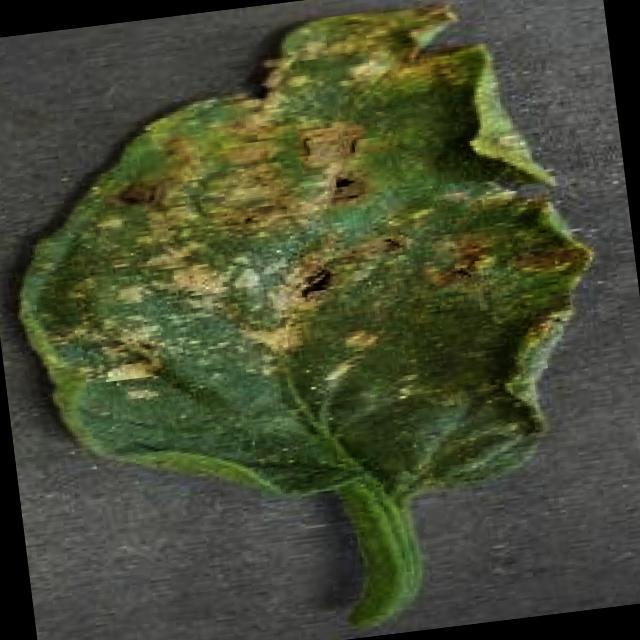Tomato bacterial spot leaf: (0, 0, 618, 545)
